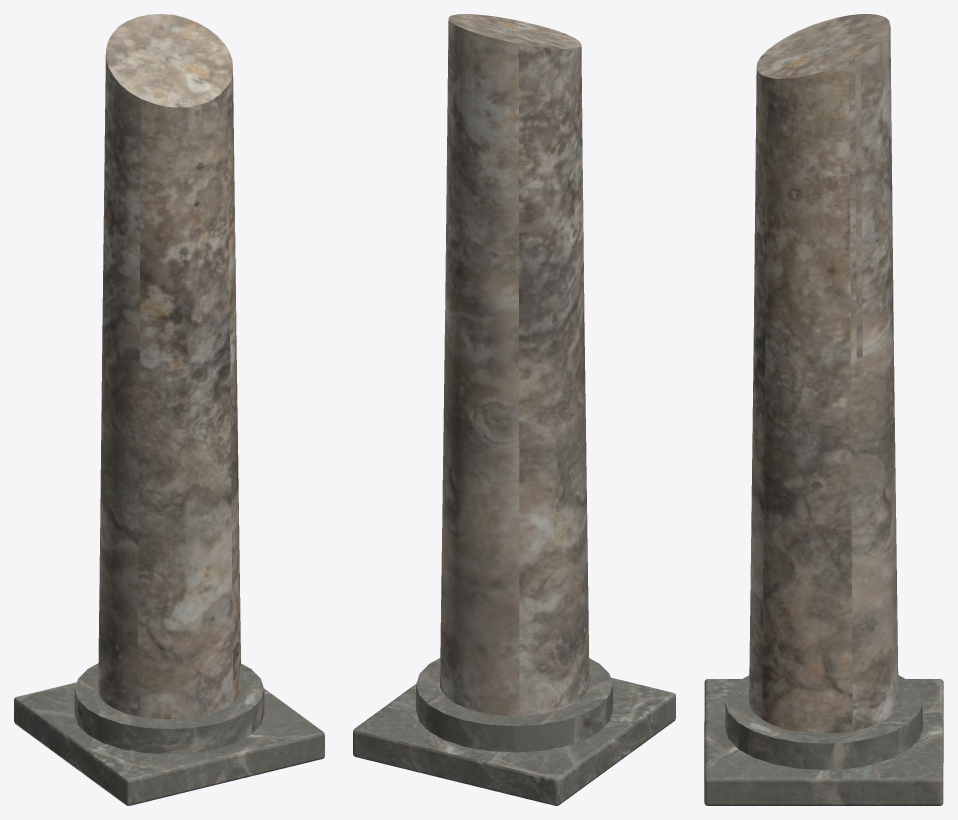
Rendered from pillar_a.glb.
3 renders of one model, left to right at view 1: azimuth 30°, elevation 25°; view 2: azimuth 150°, elevation 25°; view 3: azimuth 270°, elevation 25°, orthographic. The views are drawn at different scales.
Visible parts, largest first — view 1: pillar_a; view 2: pillar_a; view 3: pillar_a.
Boxes of the visible parts, x1,y1,x2,y2 form: pillar_a: (14,14,324,805); pillar_a: (353,14,675,805); pillar_a: (704,14,943,805).
Size of the model in its own units: 0.2937 by 1 by 0.2937.
Materials: 2 (2 with a texture image).
